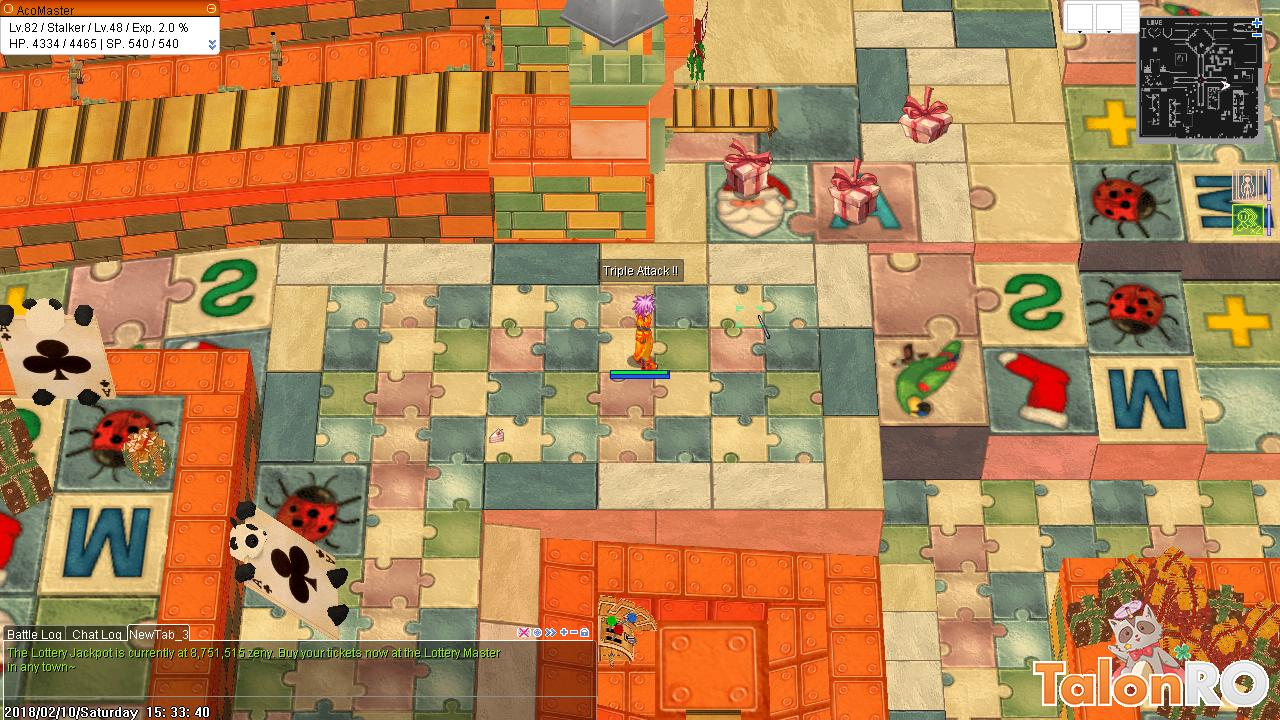myst_case: (825, 154, 884, 227), (717, 137, 777, 204), (896, 83, 957, 148)
